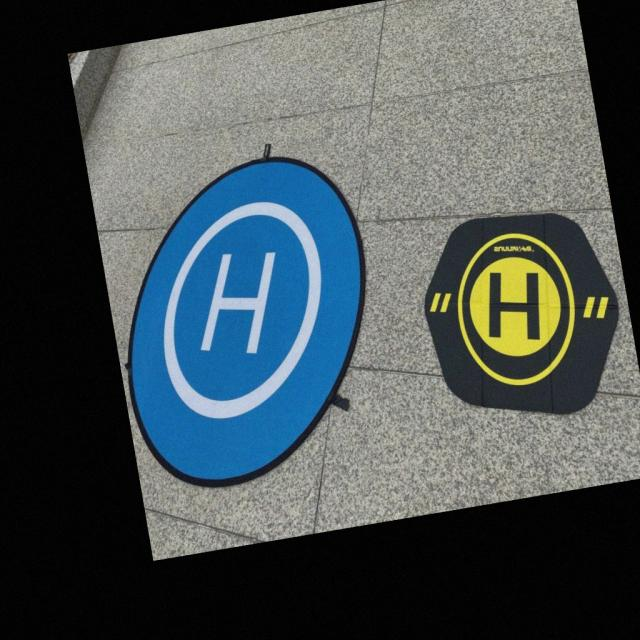helipad: (160, 192, 324, 424), (452, 229, 579, 390)
